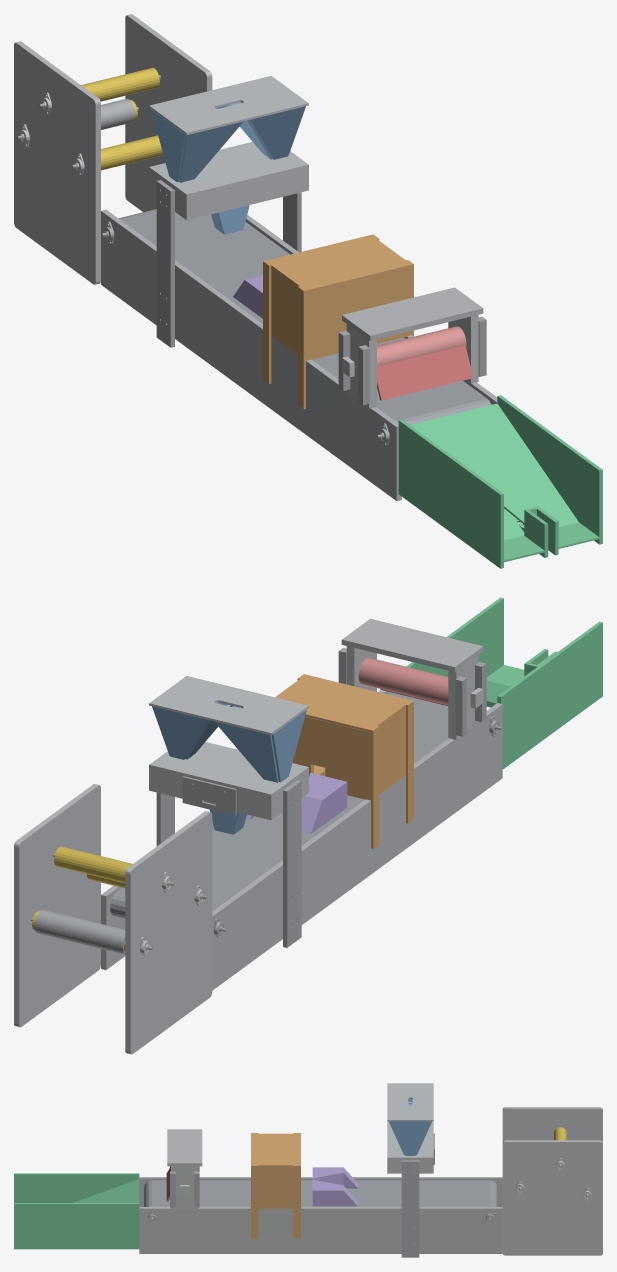
Rendered from maquina.glb.
The picture shows the model from 3 angles, top to bottom: view 1: azimuth 30°, elevation 25°; view 2: azimuth 150°, elevation 25°; view 3: azimuth 270°, elevation 25°; orthographic projection. The views are drawn at different scales.
Visible parts, largest first — view 1: Separador_de_itens, Bobina_laterais, Esteira_laterais, Selagem_horizontal, Dispenser_190_197_206, Esteira_lona, Dispenser_96_165_250, Dispenser_150_157_167, Selagem_final_tampa, Selagem_final_chapa, Bobina_rolos, Selagem_final_laterais (+4 smaller); view 2: Bobina_laterais, Esteira_laterais, Selagem_horizontal, Separador_de_itens, Dispenser_190_197_206, Esteira_lona, Dispenser_96_165_250, Dispenser_150_157_167, Selagem_final_tampa, Selagem_final_rolo, Bobina_travessas, Braco_formador (+3 smaller); view 3: Esteira_laterais, Bobina_laterais, Separador_de_itens, Esteira_lona, Selagem_horizontal, Dispenser_190_197_206, Dispenser_150_157_167, Braco_formador, Selagem_final_tampa, Dispenser_96_165_250, Selagem_final_laterais, Selagem_final_travas (+1 smaller).
Part boxes in pixels (x1,y1,x2,y2): Separador_de_itens: (398,395,602,568); Bobina_laterais: (14,14,212,284); Esteira_laterais: (101,209,497,500); Selagem_horizontal: (263,234,413,409); Dispenser_190_197_206: (149,76,308,220); Esteira_lona: (119,209,491,424); Dispenser_96_165_250: (151,102,305,234); Dispenser_150_157_167: (156,180,301,347); Selagem_final_tampa: (342,287,483,340); Selagem_final_chapa: (377,345,473,400); Bobina_rolos: (81,67,163,170); Selagem_final_laterais: (346,315,478,408); Bobina_laterais: (14,784,212,1054); Esteira_laterais: (101,690,502,990); Selagem_horizontal: (275,674,413,848); Separador_de_itens: (406,597,602,769); Dispenser_190_197_206: (149,676,308,820); Esteira_lona: (110,692,448,918); Dispenser_96_165_250: (152,702,306,834); Dispenser_150_157_167: (156,776,301,947); Selagem_final_tampa: (341,618,483,672); Selagem_final_rolo: (358,657,448,705); Bobina_travessas: (31,853,207,954); Braco_formador: (246,773,347,834); Esteira_laterais: (139,1177,502,1253); Bobina_laterais: (502,1107,602,1255); Separador_de_itens: (14,1173,139,1249); Esteira_lona: (144,1180,497,1206); Selagem_horizontal: (251,1133,300,1238); Dispenser_190_197_206: (387,1083,433,1173); Dispenser_150_157_167: (401,1133,434,1257); Braco_formador: (312,1167,357,1206); Selagem_final_tampa: (167,1129,202,1166); Dispenser_96_165_250: (388,1098,431,1155); Selagem_final_laterais: (171,1166,198,1208); Selagem_final_travas: (170,1166,199,1207).
Bounding box in the file's own units: 0.38 × 0.6012 × 2.35.
